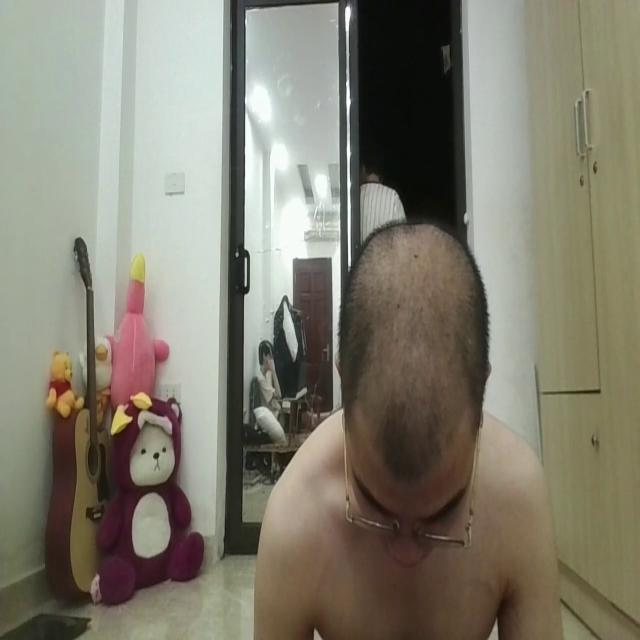extra_person: (351, 113, 408, 255), (247, 322, 304, 447)
student: (223, 197, 590, 640)
